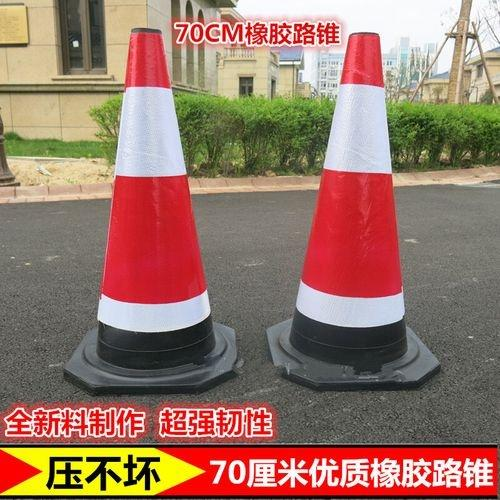cone_barrel: (70, 26, 229, 383), (269, 33, 427, 389)
